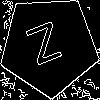Z: (24, 21, 68, 75)
